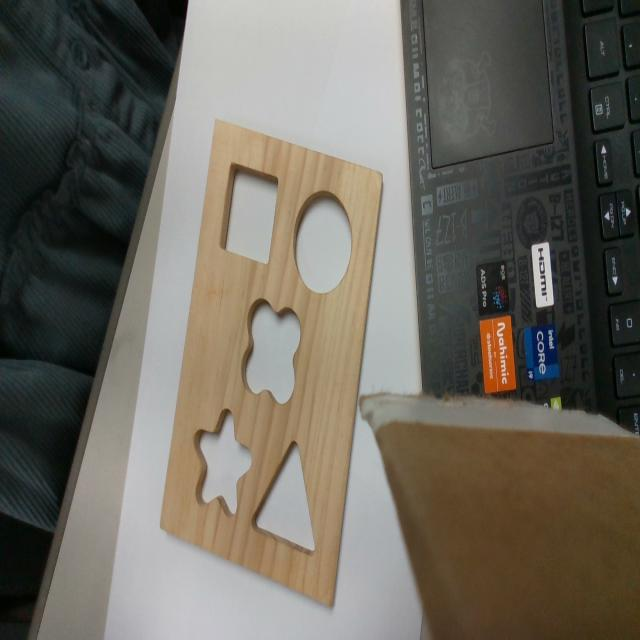circle: (294, 192, 352, 296)
flower: (242, 298, 300, 405)
square: (220, 164, 279, 266)
star: (191, 407, 254, 517)
triangle: (250, 439, 317, 556)
